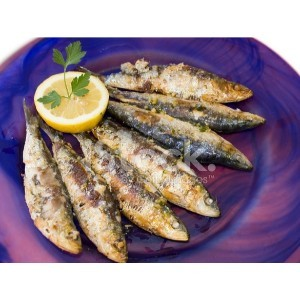sardine_brain food: (50, 137, 216, 231)
